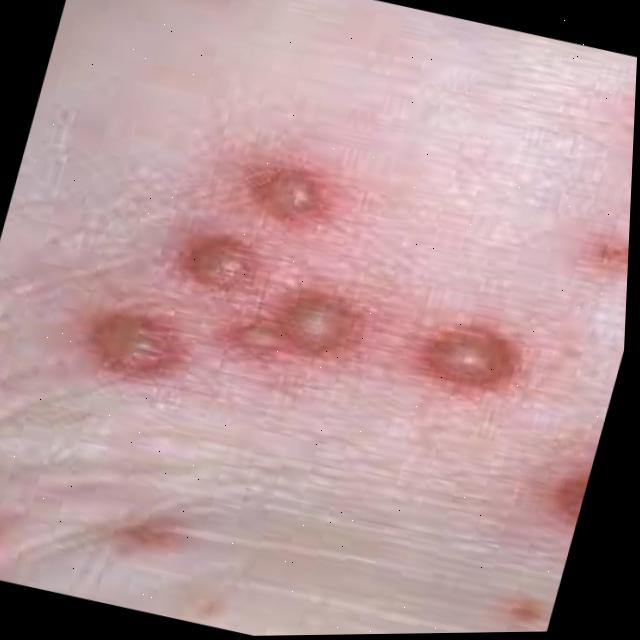Shingles: (92, 298, 196, 389), (248, 156, 326, 244), (437, 330, 522, 391), (186, 218, 254, 285), (282, 291, 351, 350), (553, 475, 587, 515)
